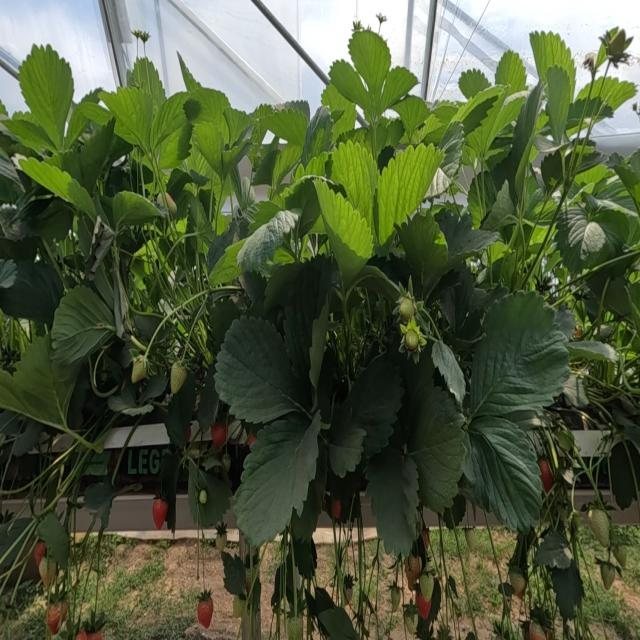Flowers: (131, 30, 150, 47), (376, 12, 387, 26)
Leaves: (470, 291, 569, 423), (234, 417, 320, 545), (464, 403, 542, 530), (215, 318, 304, 424), (408, 378, 466, 513), (377, 143, 444, 245), (314, 180, 373, 286), (346, 355, 404, 459), (11, 335, 74, 425), (19, 45, 74, 148), (366, 446, 418, 554), (51, 285, 115, 367), (15, 157, 97, 219), (331, 140, 376, 244), (555, 207, 623, 274), (507, 81, 543, 195), (0, 260, 63, 325), (237, 210, 299, 272), (65, 119, 115, 195), (101, 87, 154, 154), (400, 213, 447, 286), (328, 399, 367, 478), (348, 30, 391, 101), (188, 460, 232, 528), (439, 212, 499, 260), (306, 588, 359, 639), (530, 31, 575, 87), (62, 87, 102, 149), (2, 112, 58, 154), (431, 341, 465, 409), (329, 60, 370, 116), (192, 121, 227, 181), (546, 67, 573, 140), (152, 92, 189, 145), (126, 56, 166, 105), (551, 561, 584, 619), (380, 66, 418, 116), (113, 191, 160, 231), (264, 108, 308, 149), (38, 515, 70, 569), (84, 476, 115, 530), (190, 86, 230, 127), (393, 95, 430, 139), (483, 181, 515, 231), (593, 76, 637, 111), (495, 50, 527, 94), (535, 531, 572, 569), (0, 369, 26, 414), (604, 276, 631, 316), (567, 341, 618, 362), (458, 69, 491, 100), (223, 108, 252, 142), (241, 177, 257, 206), (0, 260, 17, 287), (589, 279, 604, 297), (579, 84, 589, 98)
Strawberries: (600, 28, 633, 68), (588, 509, 610, 546), (0, 47, 19, 82), (404, 556, 422, 590), (170, 361, 187, 395), (39, 556, 57, 587), (508, 568, 526, 599), (197, 598, 214, 628), (403, 600, 418, 634), (152, 498, 168, 529), (398, 295, 416, 322), (539, 460, 553, 492), (419, 571, 434, 600), (211, 422, 227, 449), (131, 356, 147, 383), (415, 592, 431, 619), (600, 562, 616, 589), (286, 614, 303, 639), (46, 606, 60, 634), (403, 329, 420, 351), (343, 574, 355, 604), (390, 581, 401, 612), (216, 521, 227, 552), (34, 540, 46, 567), (613, 546, 627, 569), (529, 622, 547, 639), (233, 595, 246, 617), (75, 629, 103, 639), (465, 528, 476, 551), (222, 453, 231, 471), (333, 500, 341, 519), (422, 529, 430, 548), (199, 489, 207, 505)
